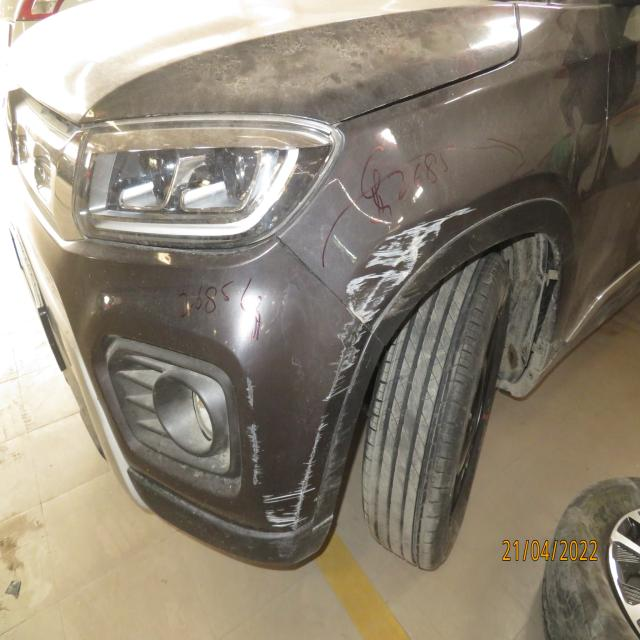damage: (265, 305, 382, 540), (351, 170, 491, 324), (237, 367, 268, 490)
